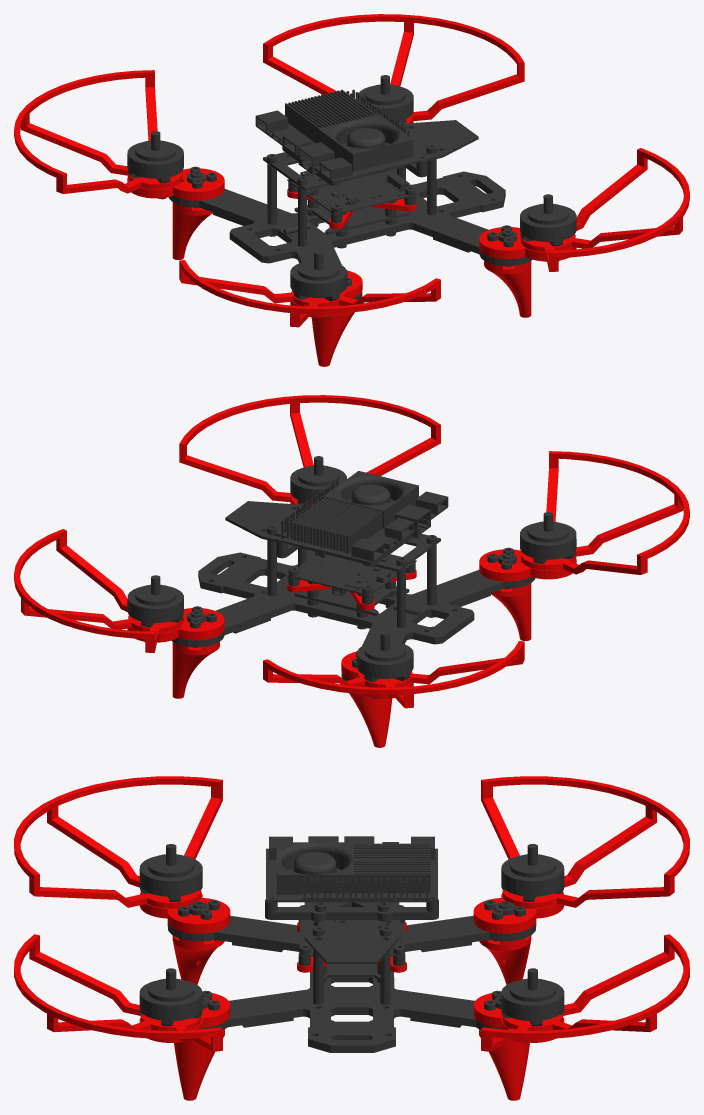
Rendered from main_body.dae.
The picture shows the model from 3 angles, top to bottom: view 1: azimuth 30°, elevation 25°; view 2: azimuth 150°, elevation 25°; view 3: azimuth 270°, elevation 25°; orthographic projection. The views are drawn at different scales.
Parts seen in each view (by area): view 1: mini_quadrotor_black, mini_quadrotor_red; view 2: mini_quadrotor_black, mini_quadrotor_red; view 3: mini_quadrotor_black, mini_quadrotor_red.
Part boxes in pixels (<box>): mini_quadrotor_black: <box>127,75,576,317</box>; mini_quadrotor_red: <box>14,14,689,366</box>; mini_quadrotor_black: <box>127,456,576,698</box>; mini_quadrotor_red: <box>14,395,689,747</box>; mini_quadrotor_black: <box>139,836,564,1052</box>; mini_quadrotor_red: <box>14,776,689,1100</box>.
Bounding box in the file's own units: 0.2903 × 0.3224 × 0.0965.
